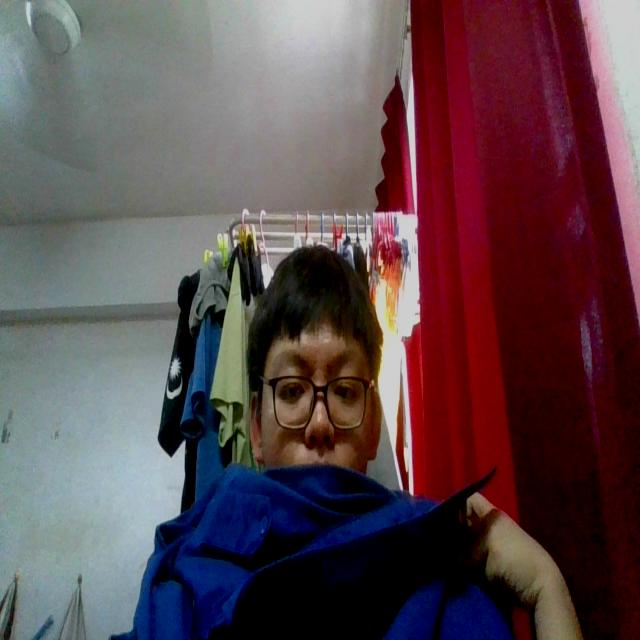person_without_labcoat: (115, 246, 582, 639)
